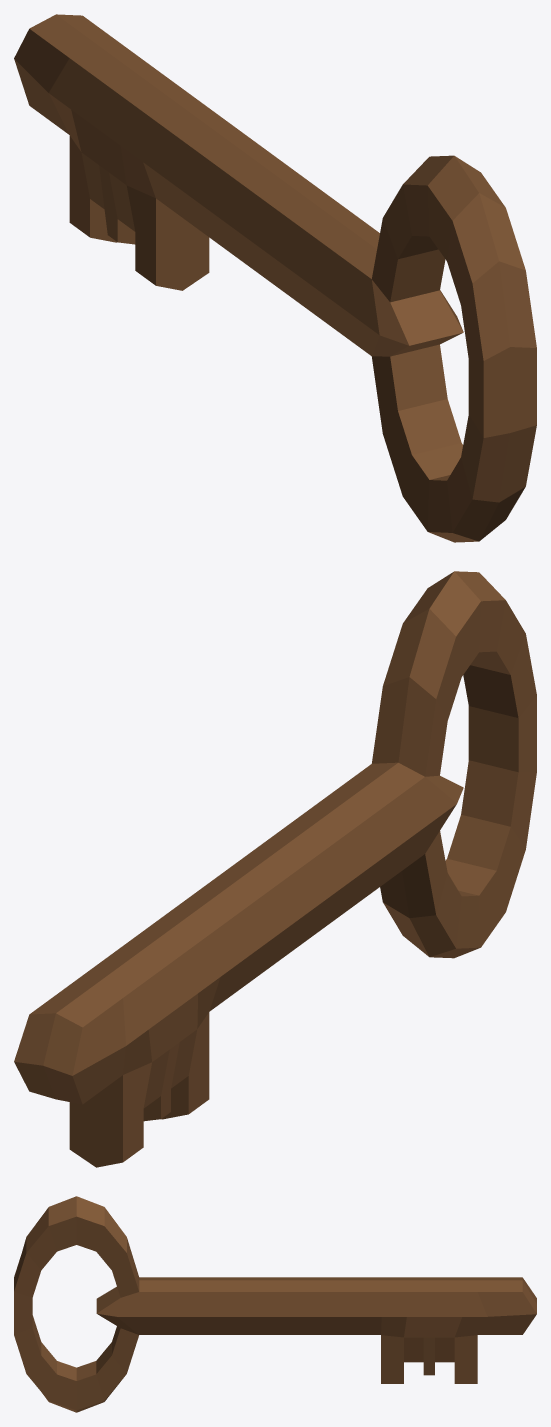
Rendered from key.fbx.
3 renders of one model, top to bottom at view 1: azimuth 30°, elevation 25°; view 2: azimuth 150°, elevation 25°; view 3: azimuth 270°, elevation 25°, orthographic. The views are drawn at different scales.
Visible parts, largest first — view 1: Cylinder.005; view 2: Cylinder.005; view 3: Cylinder.005.
Boxes of the visible parts, box(x1,y1,x2,y2) form: Cylinder.005: box(14, 14, 536, 542); Cylinder.005: box(14, 571, 536, 1167); Cylinder.005: box(14, 1196, 536, 1412).
Bounding box in the file's own units: 0.7412 × 3.54 × 7.74.
